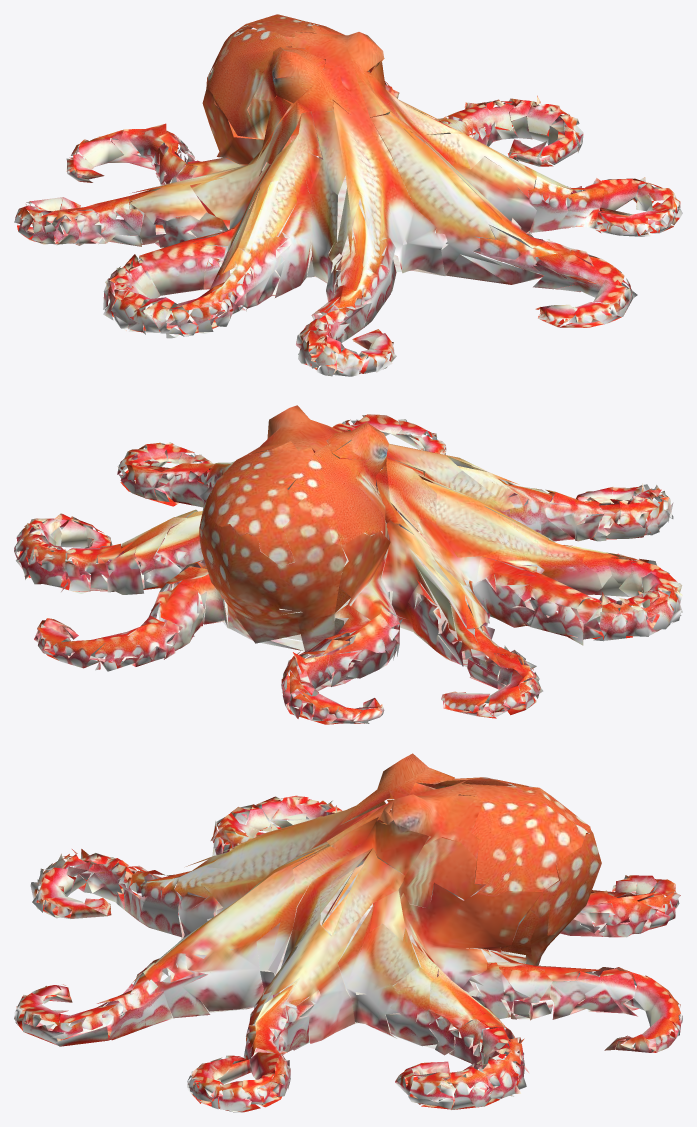
File: polvo.glb
The picture shows the model from 3 angles, top to bottom: view 1: azimuth 30°, elevation 25°; view 2: azimuth 150°, elevation 25°; view 3: azimuth 270°, elevation 25°; orthographic projection. The views are drawn at different scales.
Parts seen in each view (by area): view 1: polvo; view 2: polvo; view 3: polvo.
Boxes of the visible parts, <box> form: polvo: <box>14,14,682,376</box>; polvo: <box>14,405,682,724</box>; polvo: <box>14,753,682,1112</box>.
Bounding box in the file's own units: 0.9508 × 0.3013 × 0.9265.
1 material, 1 textured.
